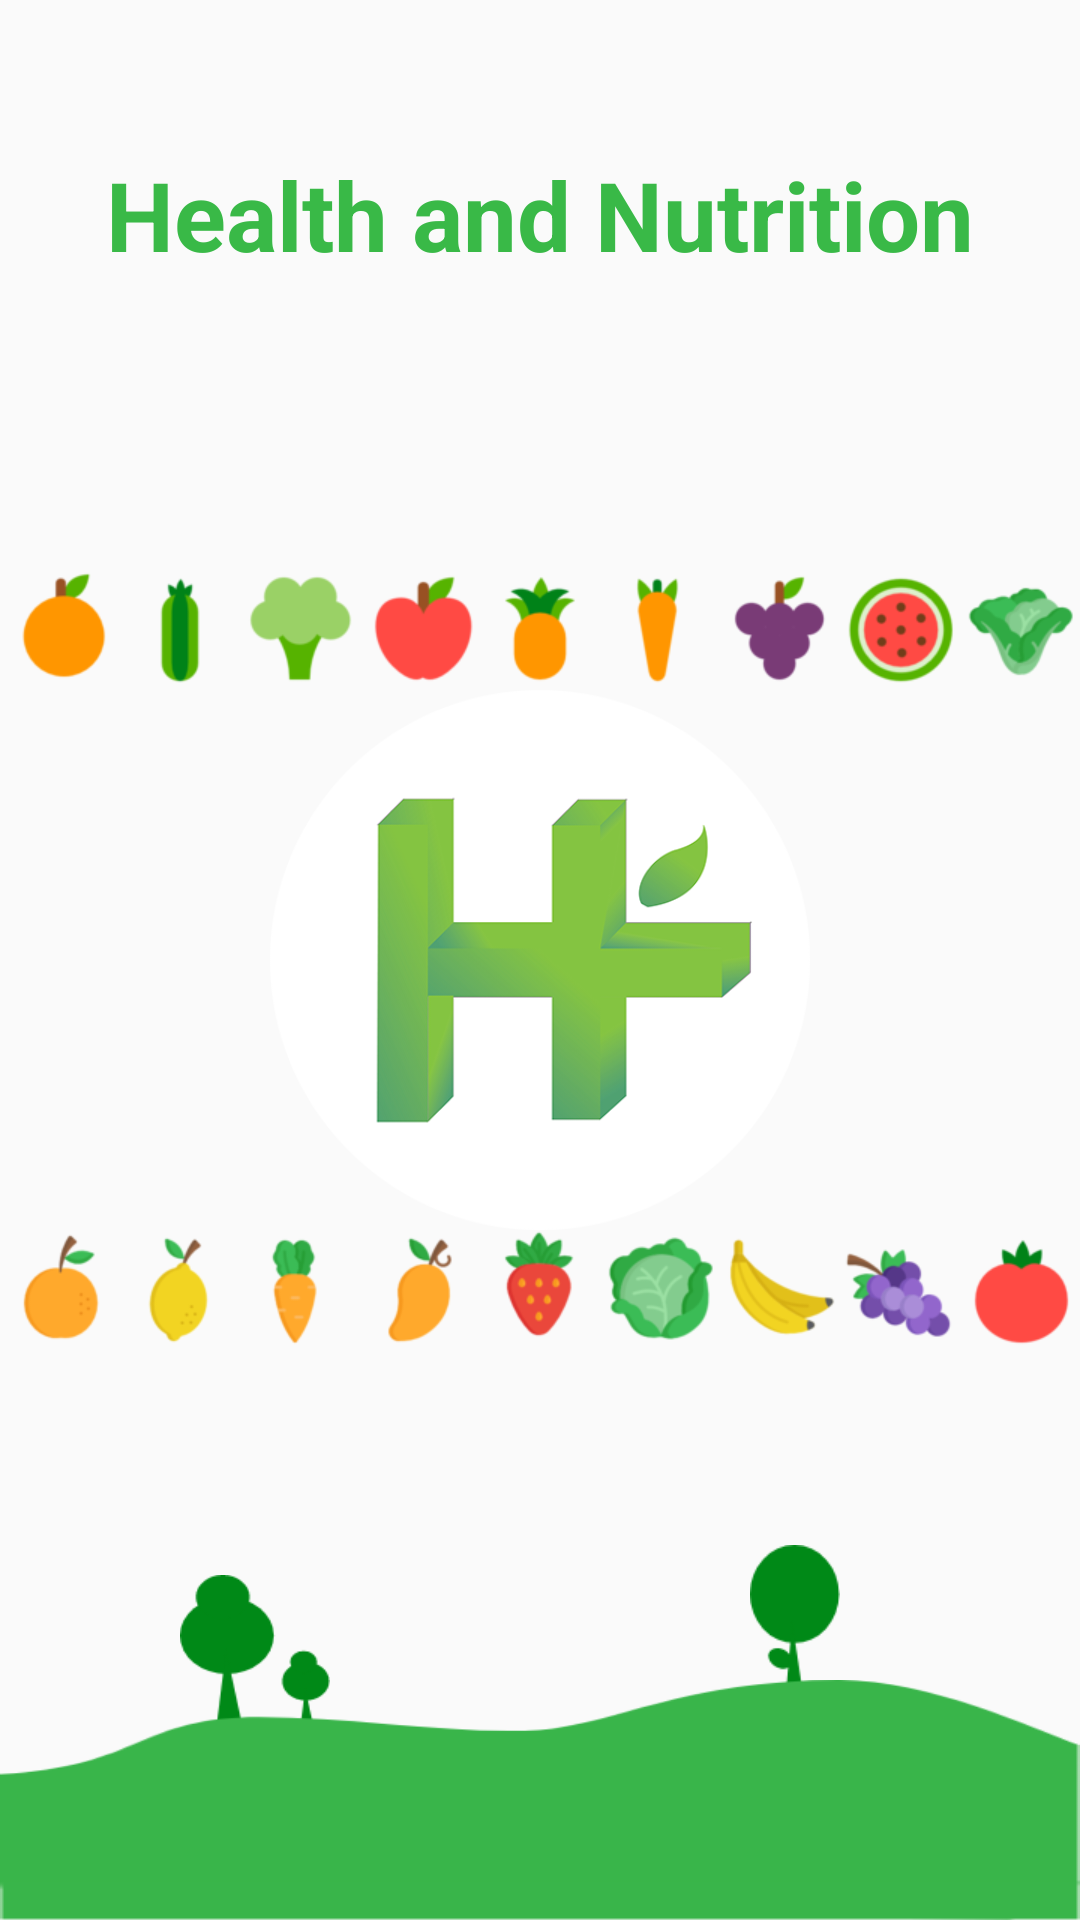

Named icons in this screenshot (1080 x 1920) and their centers, (x=x, y=y):
tree: (x=795, y=1620), (x=255, y=1650)
